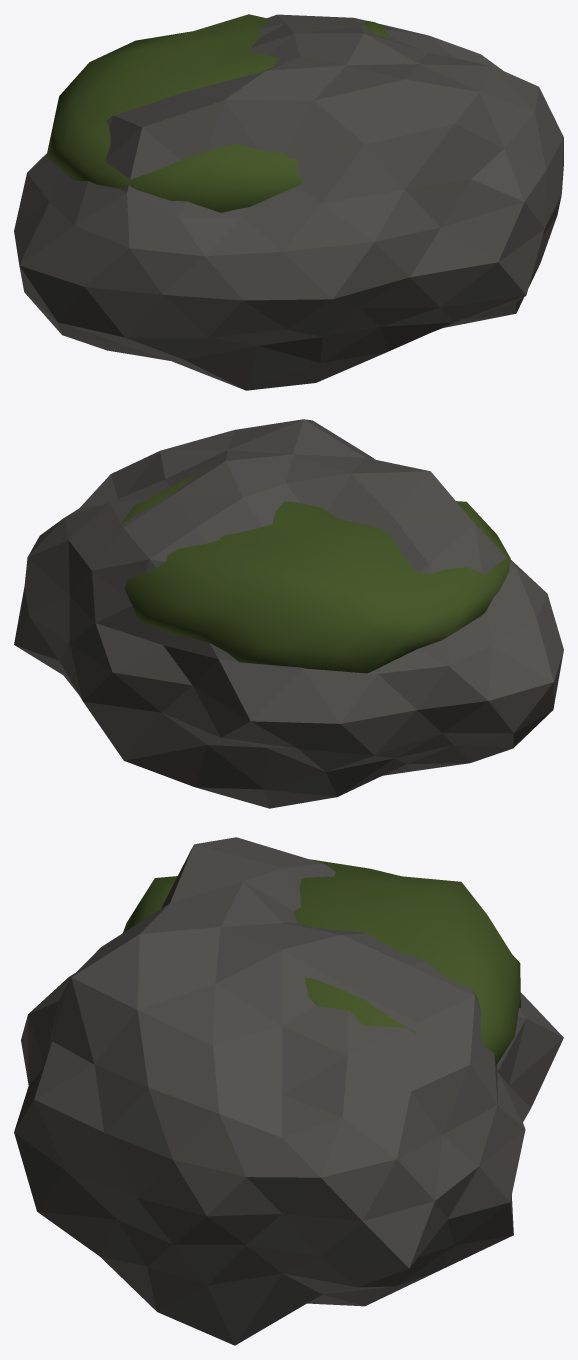
Rendered from Scenery_Rock.fbx.
3 renders of one model, top to bottom at view 1: azimuth 30°, elevation 25°; view 2: azimuth 150°, elevation 25°; view 3: azimuth 270°, elevation 25°, orthographic. The views are drawn at different scales.
Visible parts, largest first — view 1: Scenery_Rock_Mesh; view 2: Scenery_Rock_Mesh; view 3: Scenery_Rock_Mesh.
Part boxes in pixels (x1,y1,x2,y2): Scenery_Rock_Mesh: (14, 14, 563, 390); Scenery_Rock_Mesh: (14, 419, 563, 808); Scenery_Rock_Mesh: (14, 837, 563, 1345).
Size of the model in its own units: 2.7 by 1.54 by 2.13.
